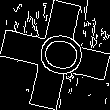O_W: (26, 28, 84, 82)
